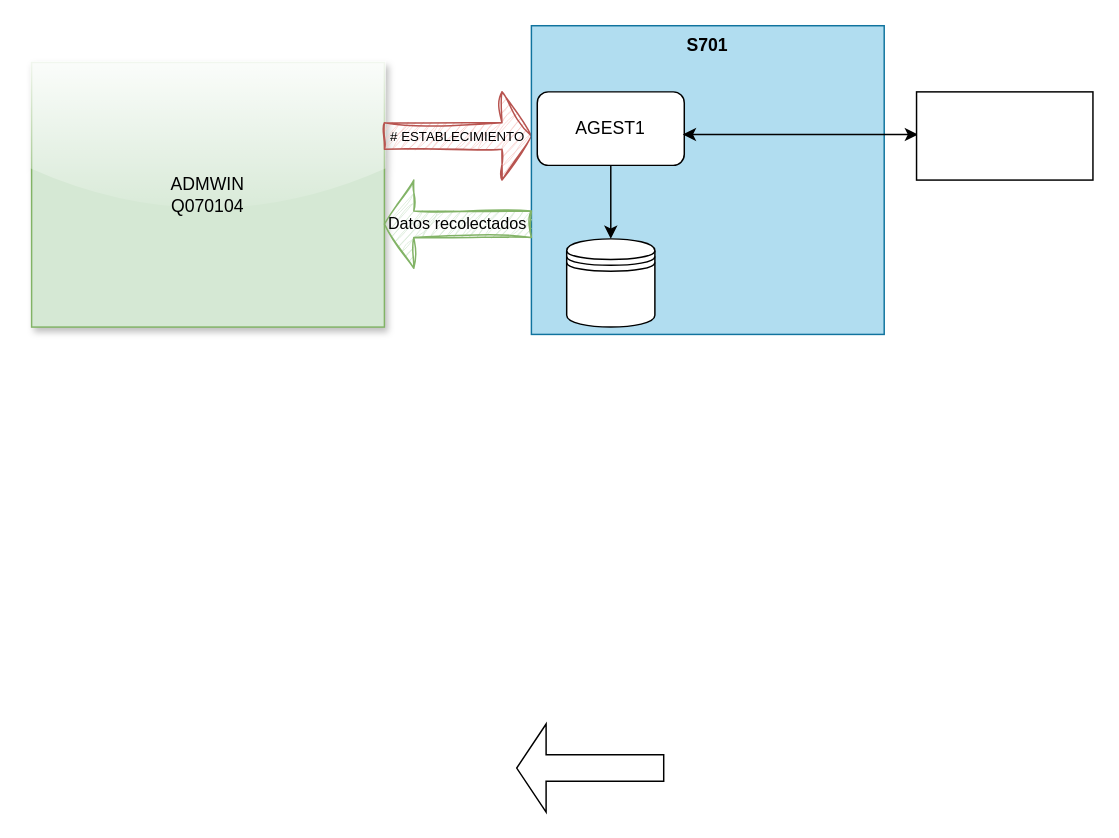
Some shapes in this 1119 by 838 pixel diagram are drawn without their labels. The shapes that lost their labels are listed below. From the top down, each one's centre as x and y in pixels, then its label:
(1004,135): S016
(610,282): S701DB
